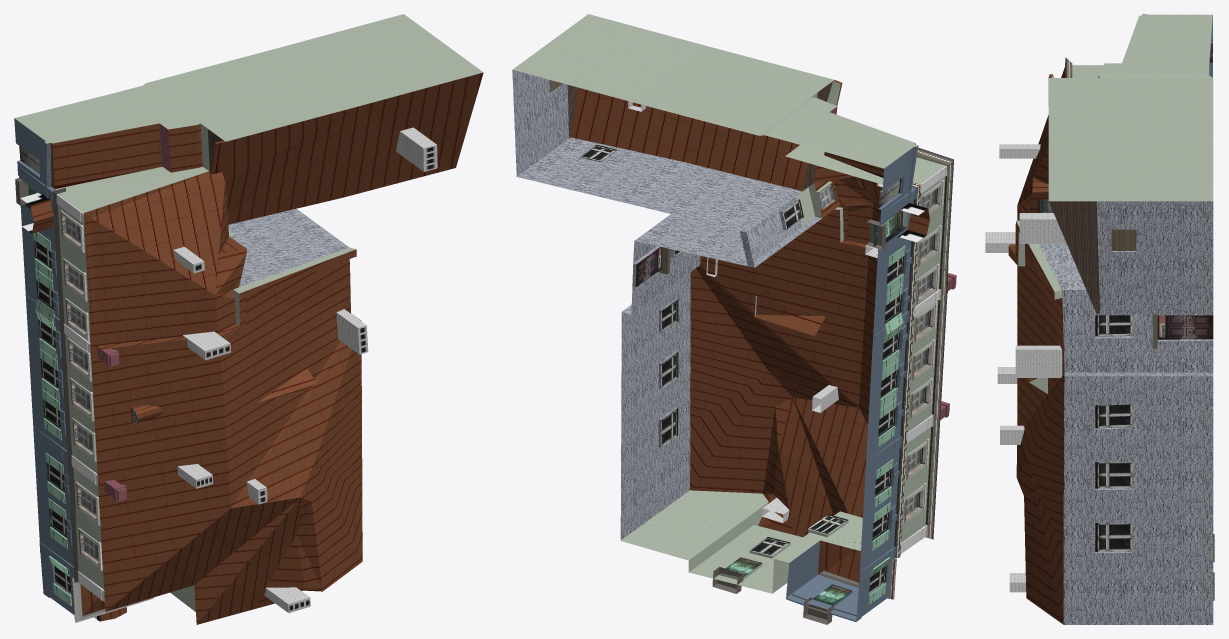
File: Uus_20.obj
3 views of the same model, side by side, from view 1: azimuth 30°, elevation 25°; view 2: azimuth 150°, elevation 25°; view 3: azimuth 270°, elevation 25° (orthographic). The views are drawn at different scales.
Visible parts, largest first — view 1: Uus_20; view 2: Uus_20; view 3: Uus_20.
Part boxes in pixels (<box>): Uus_20: <box>14,14,483,624</box>; Uus_20: <box>512,14,956,624</box>; Uus_20: <box>985,14,1214,624</box>.
Size of the model in its own units: 24.25 by 28.87 by 11.56.
